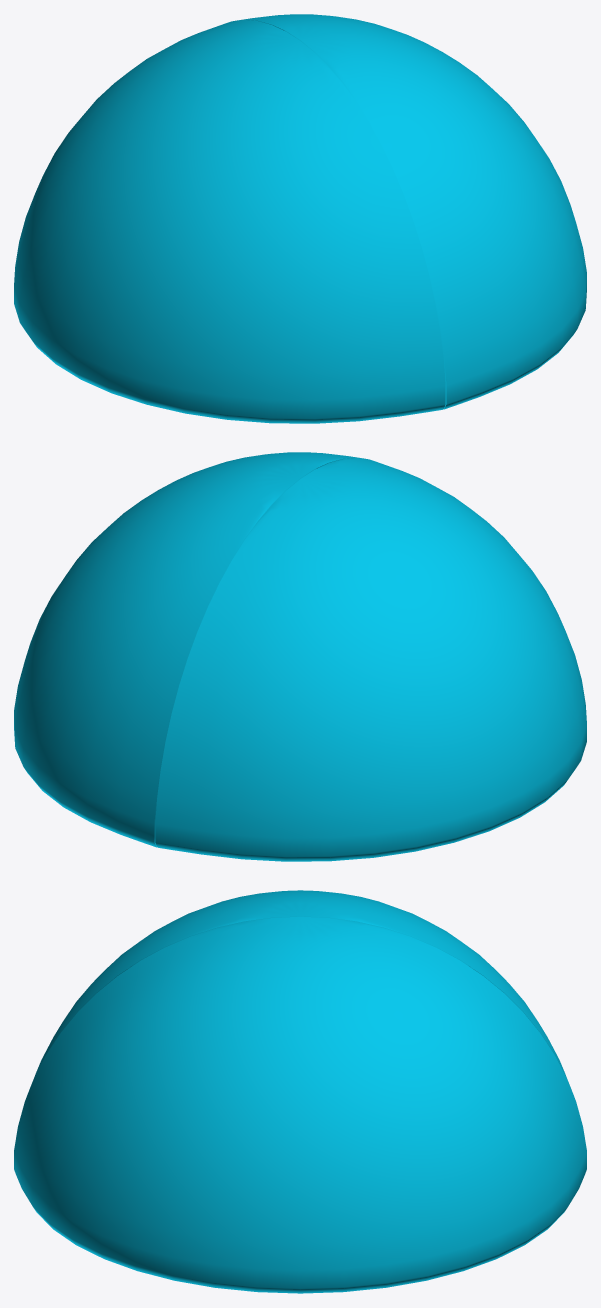
File: Domo de cristal.fbx
3 views of the same model, one above another, from view 1: azimuth 30°, elevation 25°; view 2: azimuth 150°, elevation 25°; view 3: azimuth 270°, elevation 25° (orthographic).
Parts seen in each view (by area): view 1: Cristal.001, Cristal.002; view 2: Cristal.001, Cristal.002; view 3: Cristal.002, Cristal.001.
Part boxes in pixels (x1,y1,x2,y2): Cristal.001: [14, 20, 445, 423]; Cristal.002: [233, 14, 586, 409]; Cristal.001: [155, 458, 586, 861]; Cristal.002: [14, 452, 367, 847]; Cristal.002: [14, 916, 586, 1293]; Cristal.001: [25, 890, 575, 1100].
Bounding box in the file's own units: 180 × 91.47 × 183.
